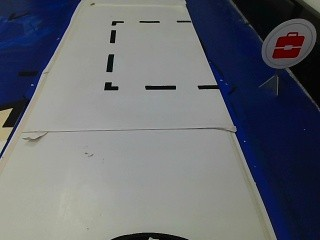company: (260, 19, 315, 71)
